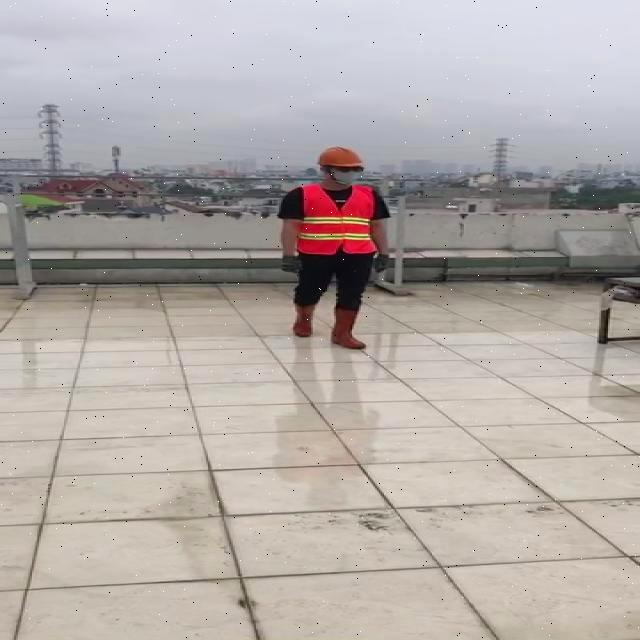Hard_hat: (313, 143, 369, 173)
Vest: (297, 183, 378, 256)
